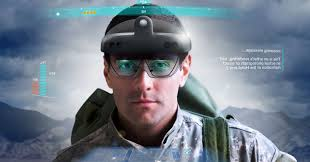hololens: (100, 17, 192, 79)
